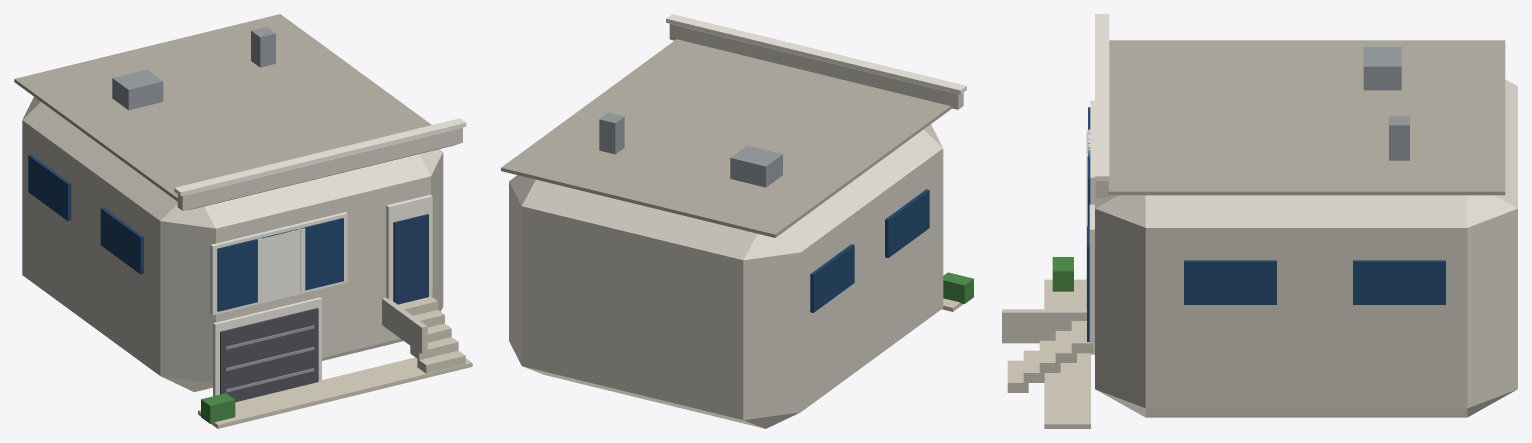
The model's file is sunset_w9_plain_pic.glb.
The picture shows the model from 3 angles, left to right: view 1: azimuth 30°, elevation 25°; view 2: azimuth 150°, elevation 25°; view 3: azimuth 270°, elevation 25°; orthographic projection. The views are drawn at different scales.
Visible parts, largest first — view 1: walls, roofslab, gdoor, pwin, patio, pp1, pcap, door, pmull, pfr, gfr, dfr (+9 smaller); view 2: walls, roofslab, pp1, pcap, sb, sb.002, hvac, pipe, hedge; view 3: walls, roofslab, sb.001, sb.003, patio, pcap, srail, hvac, pipe, dfr, hedge, stair.002 (+5 smaller).
Part boxes in pixels (box(x1,y1,x2,y2)): walls: box(22, 97, 443, 392); roofslab: box(14, 14, 431, 201); gdoor: box(220, 308, 318, 402); pwin: box(217, 218, 343, 311); patio: box(198, 357, 472, 428); pp1: box(177, 127, 462, 210); pcap: box(174, 118, 466, 196); door: box(393, 214, 428, 304); pmull: box(262, 228, 301, 300); pfr: box(210, 212, 347, 315); gfr: box(213, 297, 321, 396); dfr: box(386, 194, 432, 300); walls: box(509, 124, 943, 428); roofslab: box(501, 39, 951, 237); pp1: box(669, 23, 963, 109); pcap: box(666, 14, 966, 94); sb: box(885, 189, 929, 258); sb.002: box(810, 244, 854, 312); hvac: box(730, 145, 782, 187); pipe: box(599, 112, 624, 154); hedge: box(943, 272, 973, 303); walls: box(1095, 79, 1517, 417); roofslab: box(1108, 40, 1505, 195); sb.001: box(1184, 260, 1276, 304); sb.003: box(1353, 260, 1445, 304); patio: box(1044, 279, 1090, 428); pcap: box(1095, 14, 1109, 180); srail: box(1002, 309, 1086, 343); hvac: box(1363, 47, 1401, 90); pipe: box(1389, 116, 1409, 160); dfr: box(1089, 204, 1094, 344); hedge: box(1052, 257, 1073, 291); stair.002: box(1039, 340, 1060, 372).
Size of the model in its own units: 9.2 by 7.2 by 12.2.
